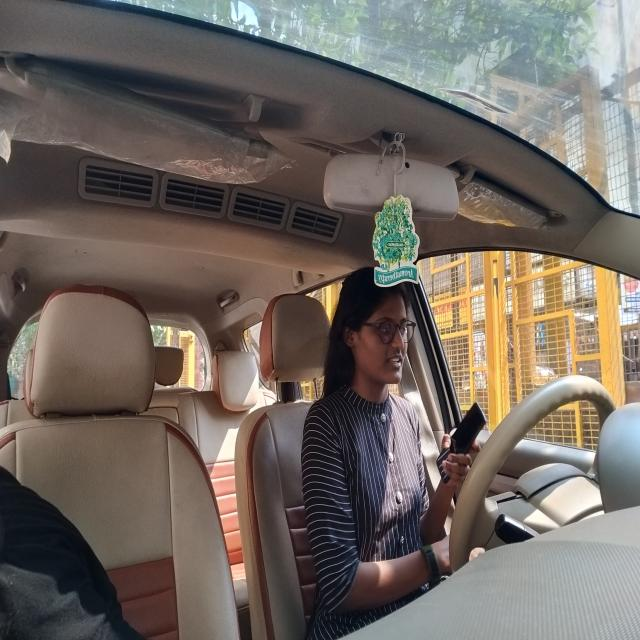mobile: (446, 393, 487, 481)
person: (341, 260, 414, 390)
